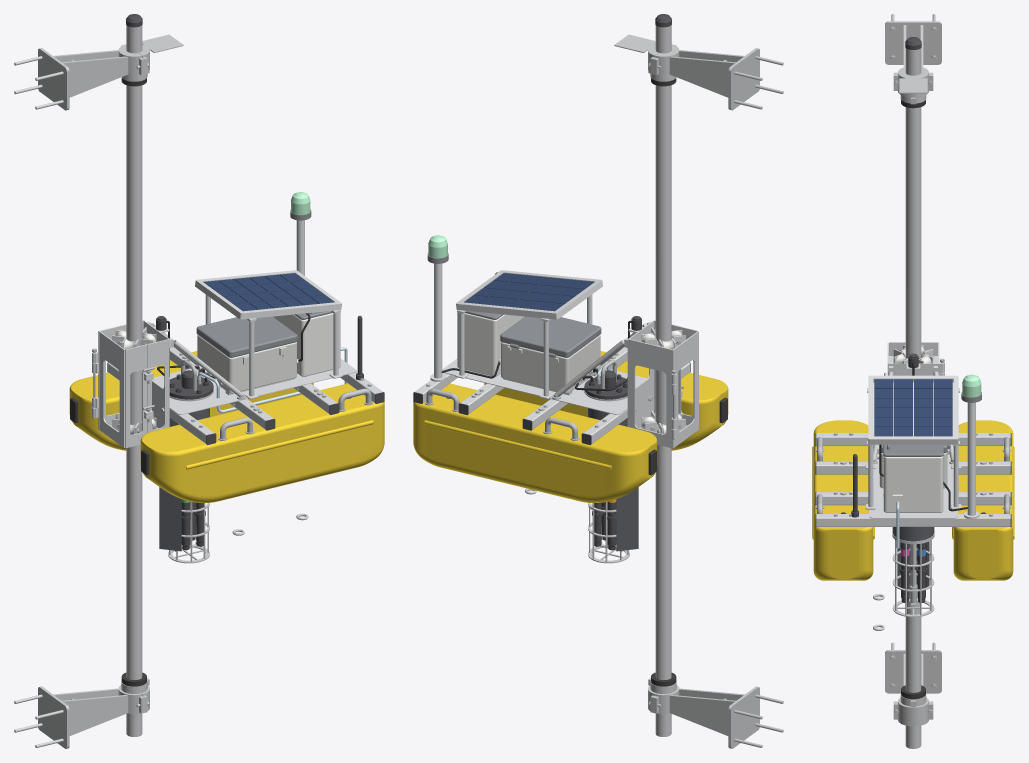
Rendered from Sanjivani Heros Journey.glb.
3 renders of one model, left to right at view 1: azimuth 30°, elevation 25°; view 2: azimuth 150°, elevation 25°; view 3: azimuth 270°, elevation 25°, orthographic.
Visible parts, largest first — view 1: AquaSentinel_R3_Assembly_NATIVE; view 2: AquaSentinel_R3_Assembly_NATIVE; view 3: AquaSentinel_R3_Assembly_NATIVE.
Part boxes in pixels (<box>): AquaSentinel_R3_Assembly_NATIVE: <box>14,14,384,748</box>; AquaSentinel_R3_Assembly_NATIVE: <box>413,14,783,748</box>; AquaSentinel_R3_Assembly_NATIVE: <box>812,14,1014,748</box>.
Size of the model in its own units: 1.38 by 3.01 by 0.782.
